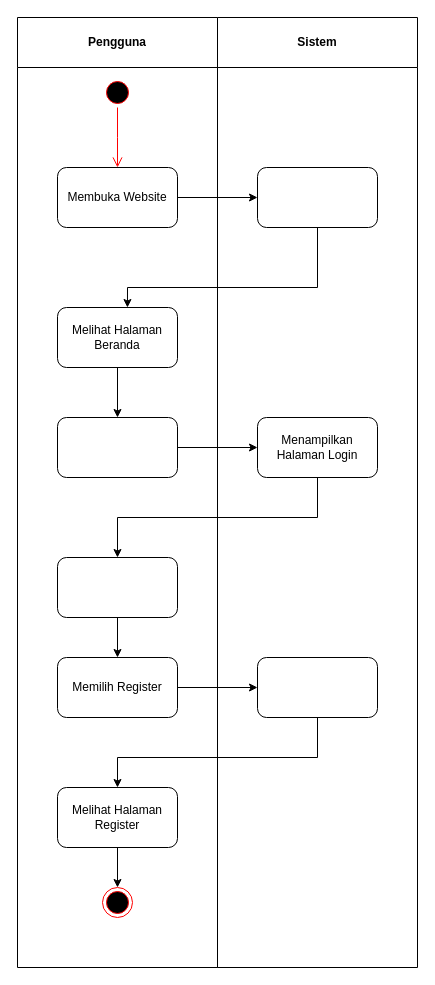
This 435x985 diagram has some shape labels left out. The box of each missing label's shape, as (x1, y1, x2, y2) in pixels:
Melihat Halaman Login: (56, 556, 178, 618)
Menampilkan Halaman Beranda: (256, 166, 378, 228)
Menampilkan Halaman Register: (256, 656, 378, 718)
Pilih Menu Login: (56, 416, 178, 478)
